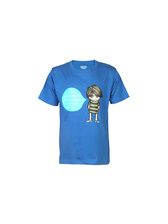clothoes: (36, 57, 133, 170)
